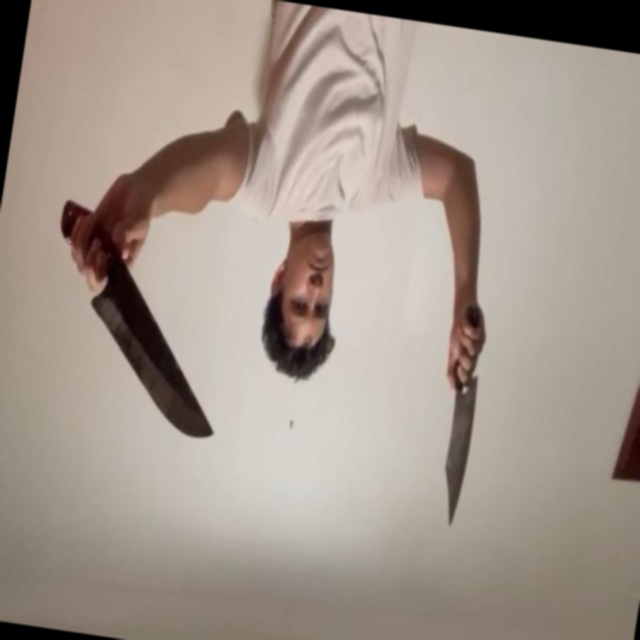Sharp-Object: (73, 285, 234, 442), (435, 378, 479, 528)
